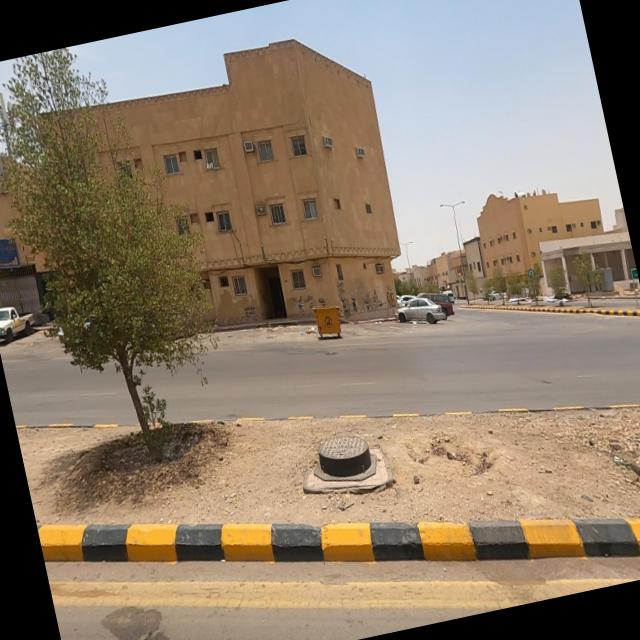Graffiti: (291, 293, 316, 316), (337, 279, 351, 314), (385, 284, 399, 308), (370, 288, 384, 312), (352, 296, 367, 315), (244, 304, 257, 318), (365, 297, 374, 313), (317, 298, 328, 307)
